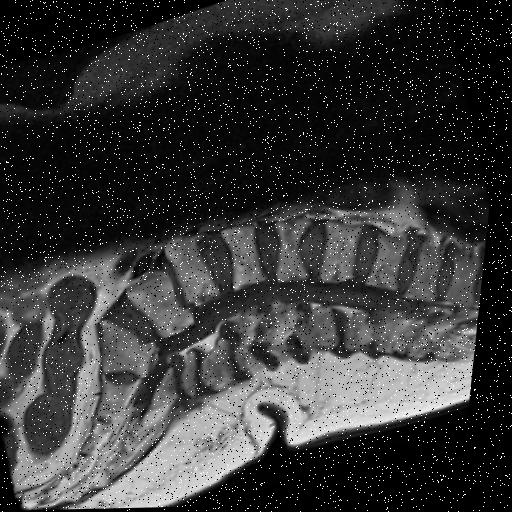L1: (325, 222, 367, 284)
L2: (279, 220, 315, 283)
L3: (225, 225, 271, 291)
L4: (168, 234, 225, 307)
L5: (131, 272, 200, 339)
S1: (105, 322, 162, 380)
